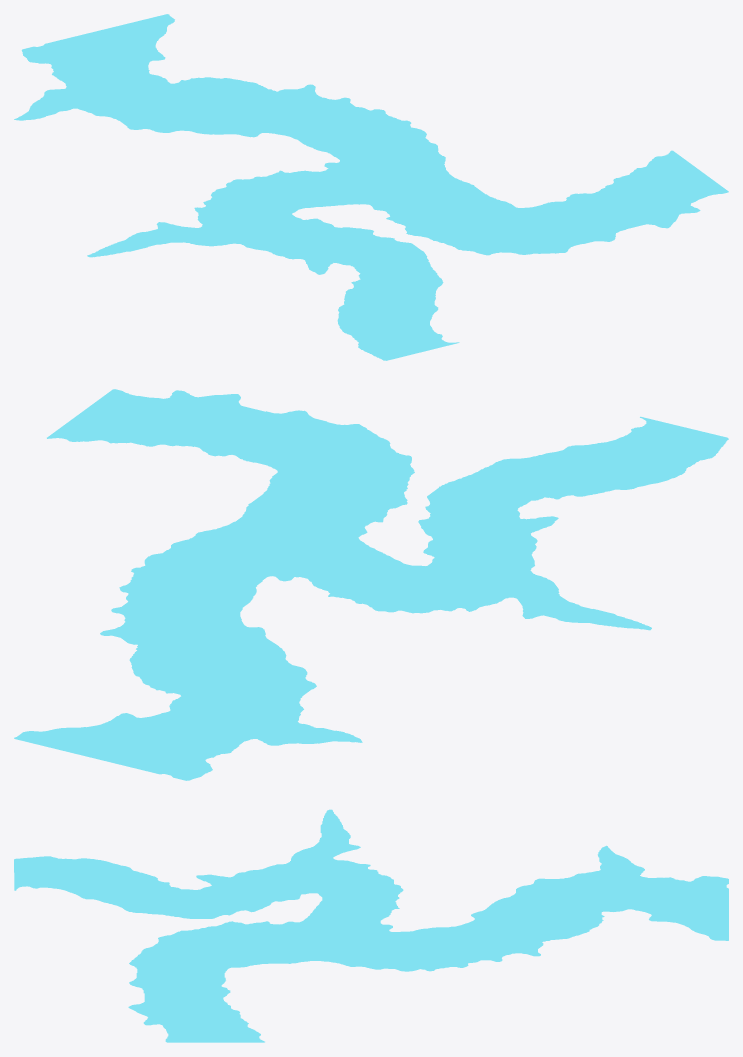
File: Zvikov_Vltava_soucasny_tok_RUIAN.glb
3 renders of one model, top to bottom at view 1: azimuth 30°, elevation 25°; view 2: azimuth 150°, elevation 25°; view 3: azimuth 270°, elevation 25°, orthographic. The views are drawn at different scales.
Parts seen in each view (by area): view 1: Vltava_soucasny_tok; view 2: Vltava_soucasny_tok; view 3: Vltava_soucasny_tok.
Boxes of the visible parts, left/top/right/bottom form: Vltava_soucasny_tok: left=14, top=14, right=728, bottom=360; Vltava_soucasny_tok: left=14, top=389, right=728, bottom=780; Vltava_soucasny_tok: left=14, top=809, right=728, bottom=1042.
Size of the model in its own units: 1402 by 0 by 1818.
